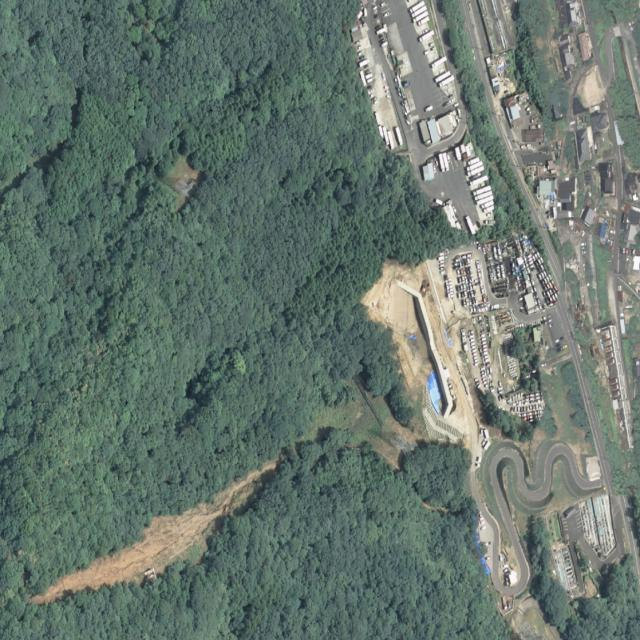landslide: (29, 461, 276, 605)
